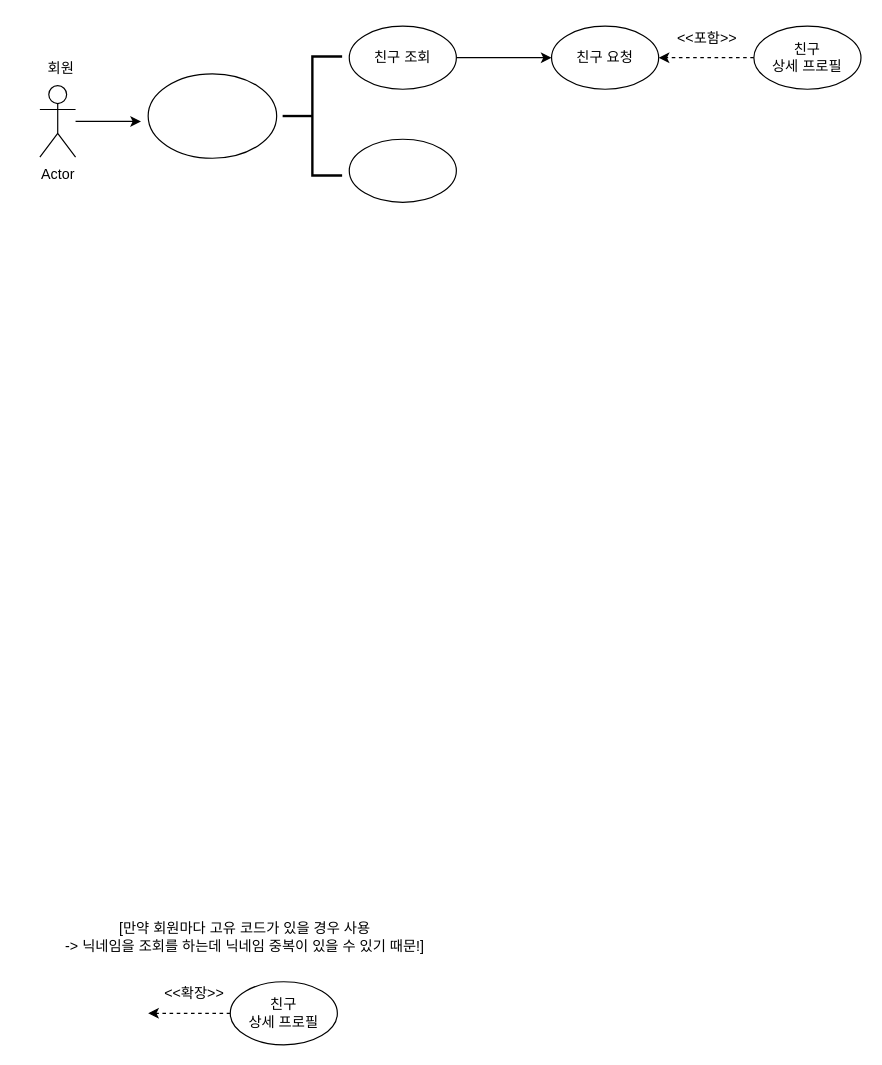
This 882x1065 diagram has some shape labels left out. Here are the shapes that lost their labels. From the top down, the centre of each, then its label:
the point at 212,115: 친구 관리
the point at 402,170: 친구 수락 / 거절
